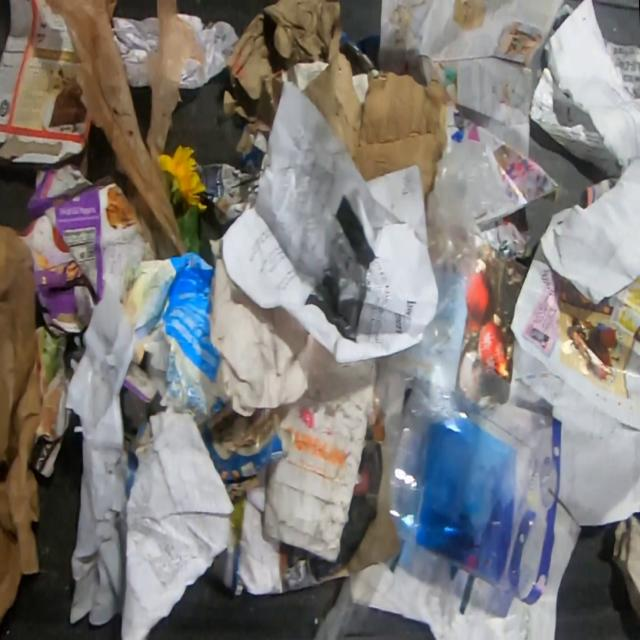cardboard: (221, 0, 452, 201), (18, 160, 157, 337), (262, 357, 375, 563), (122, 251, 237, 429), (0, 224, 46, 622), (0, 0, 90, 167), (122, 361, 163, 403)
soft_plastic: (387, 361, 563, 606), (43, 0, 208, 253), (375, 139, 512, 413)
